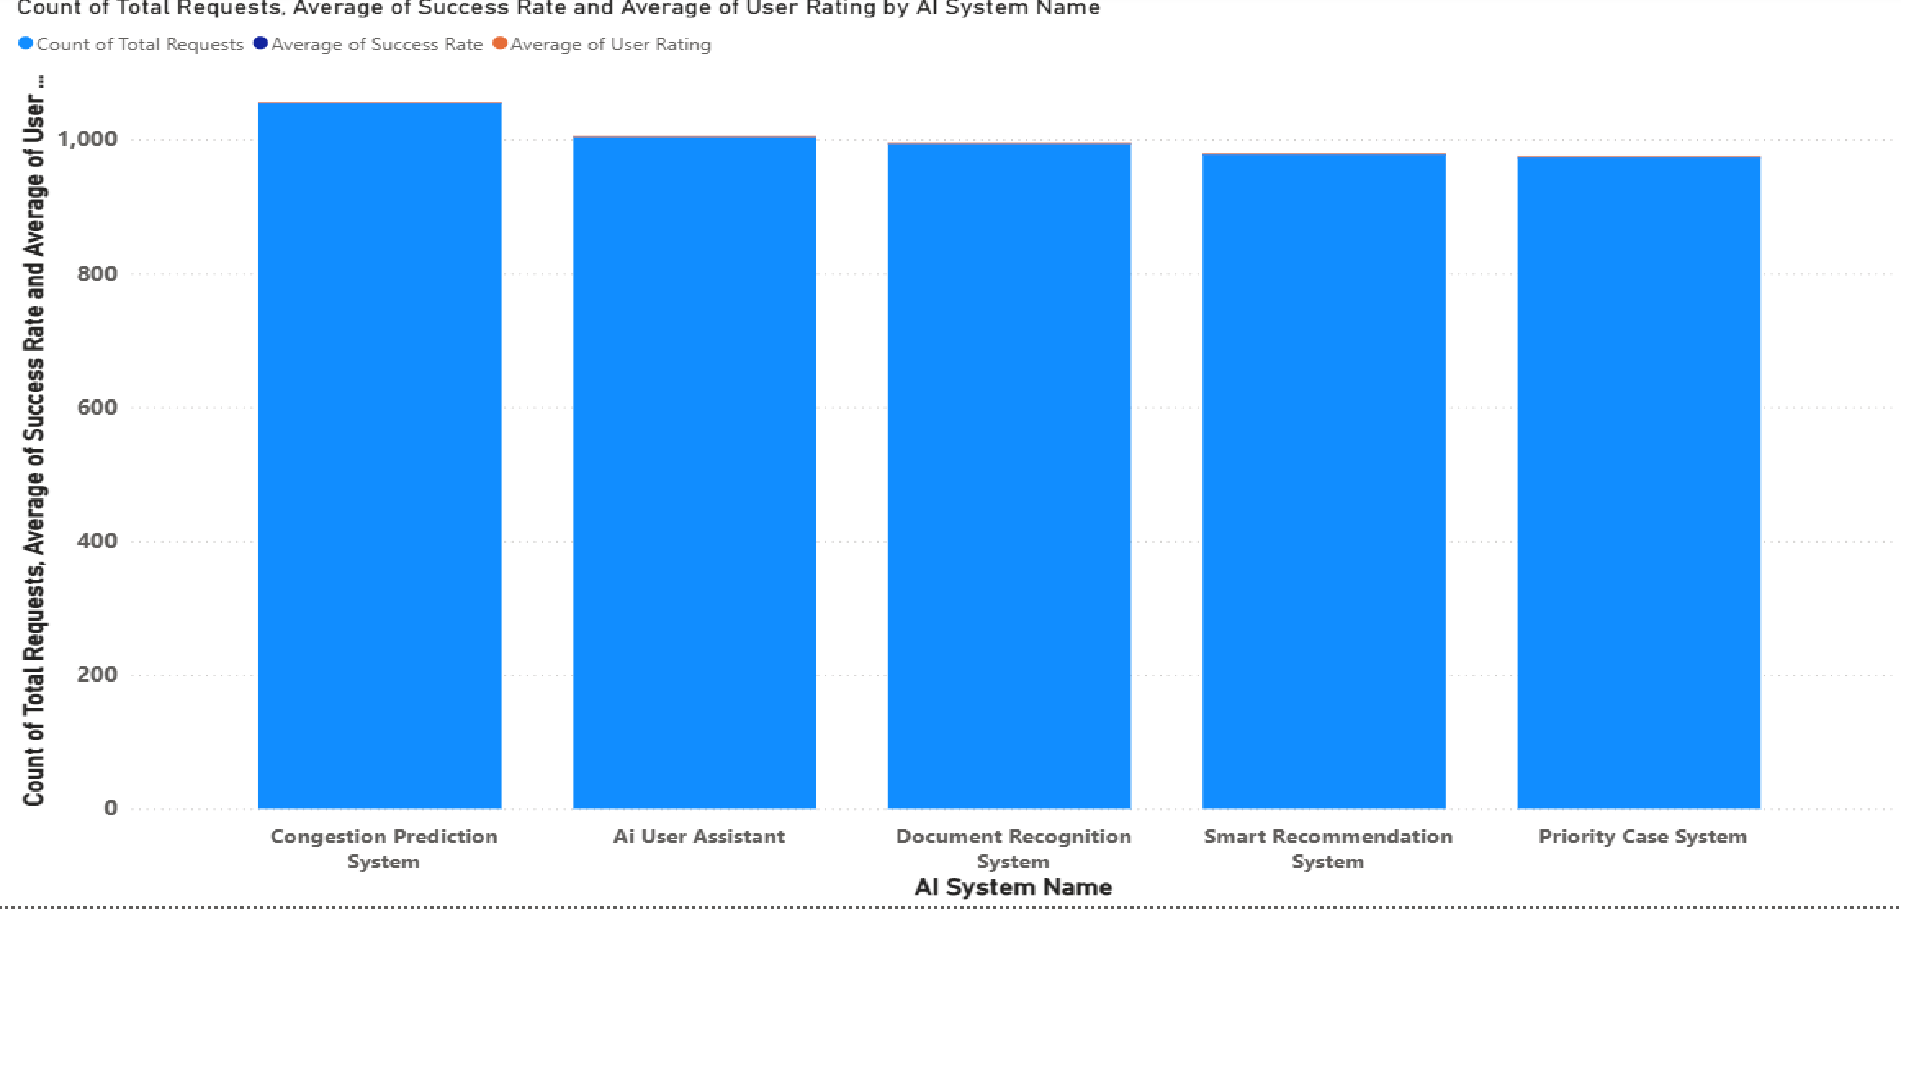

Layout of this report page (visuals, bound fields, positions):
{"tool":"powerbi","page":{"name":"Page 2","canvas":[1280,720],"ordinal":1},"visuals":[{"type":"columnChart","fields":{"Category":["Data G S.AI System Name"],"Y":["CountNonNull(Data G S.Total Requests)","Sum(Data G S.Success Rate)","Sum(Data G S.User Rating)"]},"box":[9.6,0,1270.7,720.4],"z":0}]}

Visuals, with their boxes in screenshot pixels (x1, y1, x2, y2), scaled from the page's 1280x720 canvas onto the 1920x1080 screenshot:
columnChart - Data G S.AI System Name x CountNonNull(Data G S.Total Requests): bbox(14, 0, 1919, 1079)
